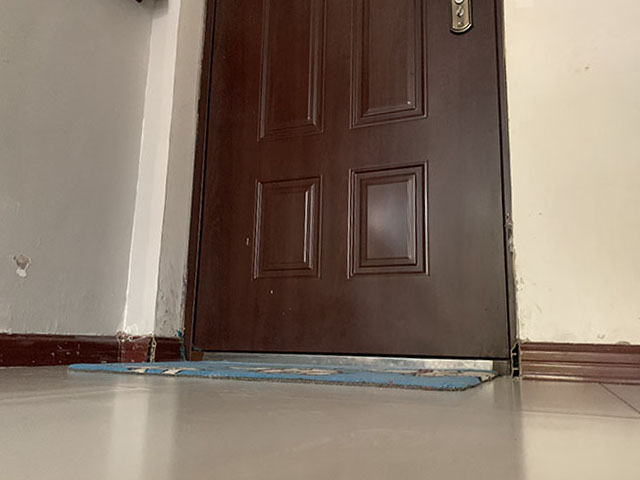carpet: (66, 358, 502, 390)
